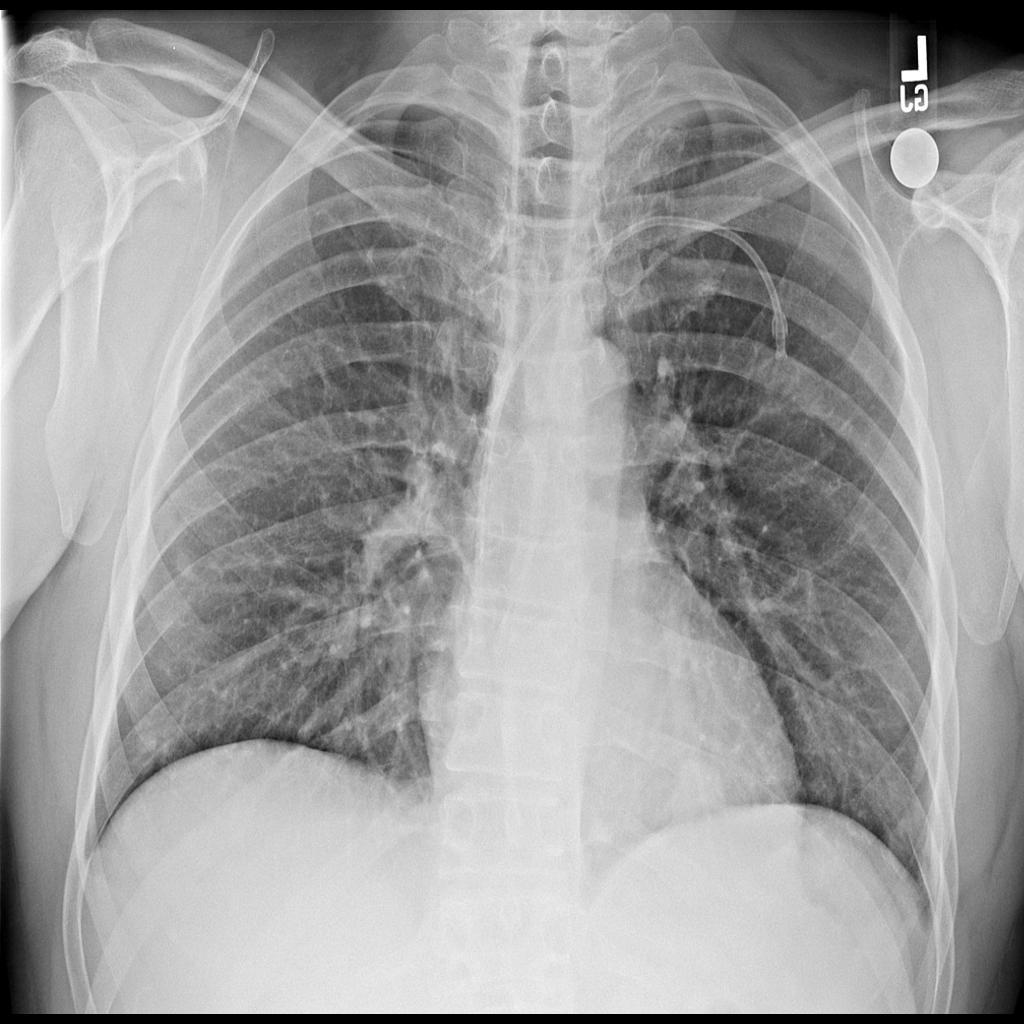Nodule: (173, 550, 200, 587)
